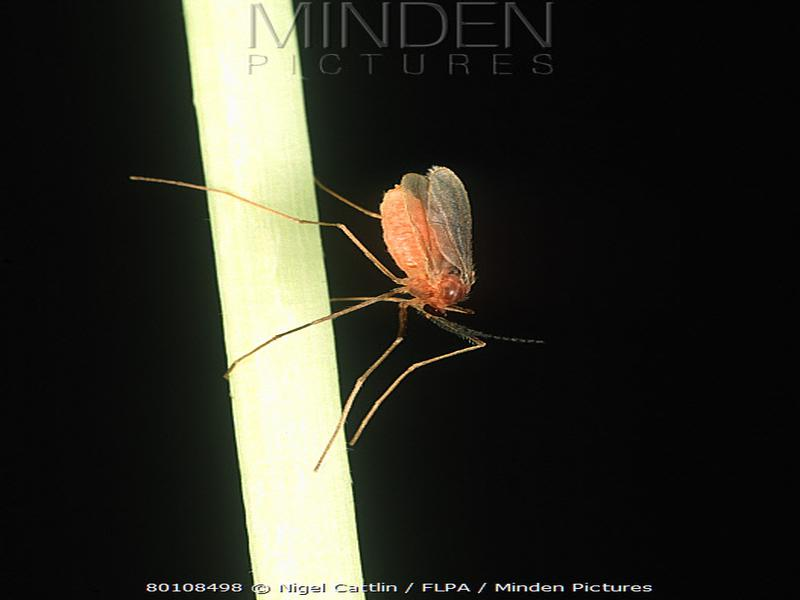Gall_midge: (348, 139, 510, 337)
